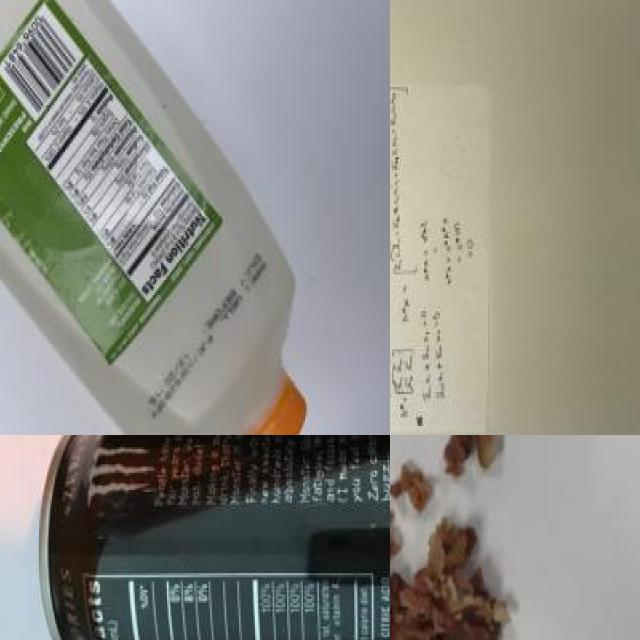compost: (390, 435, 548, 640)
paper: (390, 59, 497, 435)
plastic: (0, 0, 314, 435), (48, 435, 390, 640)
